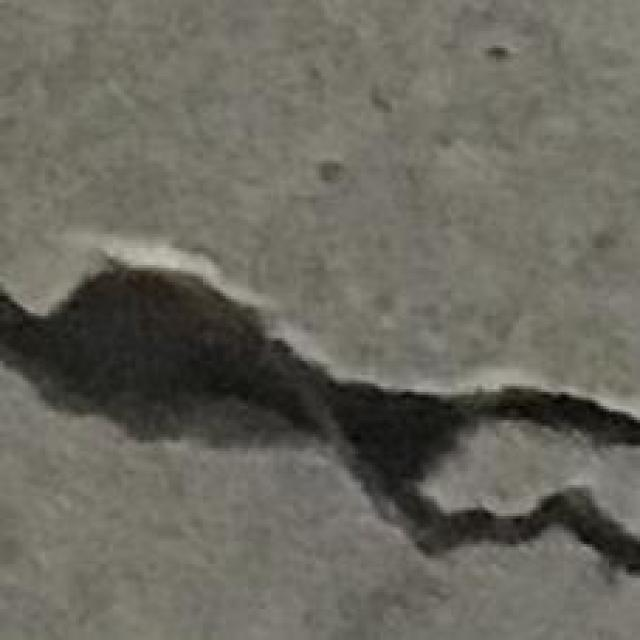Turtle-shell patterned: (13, 244, 640, 592)
